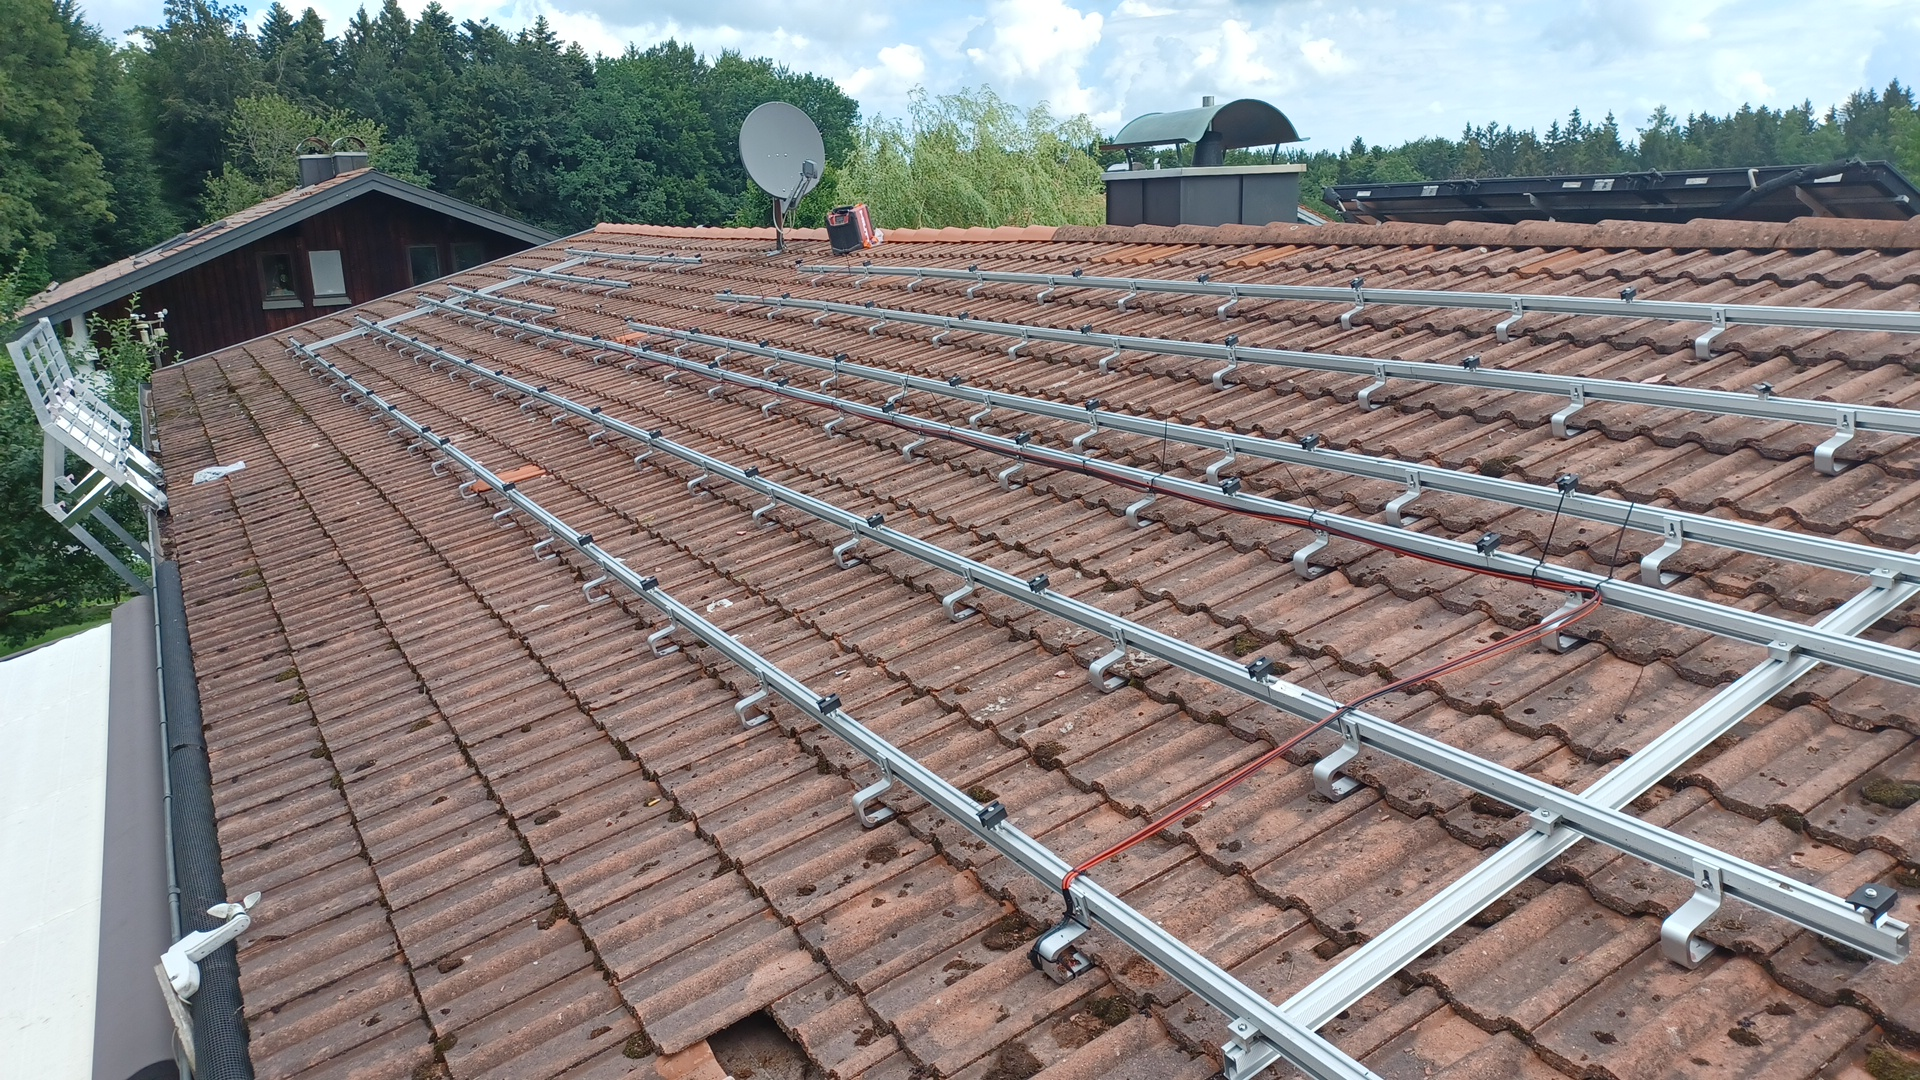hook: (1662, 857, 1724, 971), (1038, 884, 1092, 985), (1313, 716, 1360, 800), (852, 752, 897, 829), (1542, 576, 1584, 653), (1640, 516, 1683, 587), (1815, 409, 1857, 475), (1089, 625, 1127, 694), (1294, 517, 1329, 580), (735, 669, 770, 731), (1386, 469, 1422, 527), (942, 564, 975, 622), (1551, 382, 1585, 438), (647, 607, 680, 659), (1126, 476, 1156, 530), (1696, 309, 1726, 360), (1207, 436, 1236, 487), (1495, 297, 1523, 345), (1358, 363, 1386, 411), (582, 558, 609, 604), (833, 520, 858, 570), (1000, 446, 1025, 492), (1073, 409, 1098, 455), (1213, 348, 1237, 392), (752, 487, 777, 527), (1341, 287, 1365, 330), (902, 422, 926, 462), (533, 522, 556, 560), (687, 459, 709, 498), (969, 394, 993, 430), (493, 492, 516, 529), (1218, 286, 1240, 323), (1098, 338, 1120, 375), (1007, 328, 1029, 361), (636, 436, 654, 473), (762, 386, 782, 418), (1118, 281, 1138, 313), (820, 363, 839, 396), (459, 465, 477, 498), (588, 418, 607, 448), (932, 319, 951, 349), (887, 377, 909, 404), (1036, 277, 1056, 305), (764, 351, 782, 380), (869, 311, 887, 340), (431, 446, 448, 476), (551, 401, 568, 430), (407, 430, 425, 458), (967, 273, 984, 301), (708, 372, 724, 400), (665, 360, 680, 386), (520, 389, 535, 414), (907, 269, 923, 294), (715, 344, 732, 367), (814, 305, 829, 328), (593, 342, 608, 367), (492, 378, 506, 404), (727, 295, 742, 318), (855, 266, 870, 289), (674, 334, 688, 357), (767, 301, 783, 322), (388, 418, 402, 440), (626, 352, 641, 375), (563, 336, 578, 357), (811, 266, 825, 287), (469, 369, 483, 392), (369, 405, 384, 425), (355, 393, 368, 414), (448, 361, 462, 382), (342, 385, 356, 404), (430, 352, 443, 372), (414, 345, 426, 367), (328, 375, 342, 393), (537, 331, 549, 349), (531, 307, 543, 324), (495, 320, 506, 338), (514, 324, 526, 342), (512, 305, 526, 318), (299, 353, 311, 369), (309, 360, 320, 376), (582, 280, 593, 295), (400, 340, 410, 357), (458, 311, 469, 326), (475, 316, 487, 331), (524, 272, 535, 286), (373, 330, 384, 345), (385, 335, 396, 351), (625, 256, 636, 272), (319, 368, 330, 382), (476, 297, 487, 311), (560, 277, 571, 291), (607, 282, 617, 297), (649, 258, 659, 273), (676, 258, 686, 274), (291, 349, 303, 361), (429, 305, 440, 316), (284, 345, 297, 356), (493, 301, 504, 314), (604, 255, 615, 268), (542, 274, 553, 287), (442, 309, 454, 319), (584, 253, 593, 266), (447, 289, 458, 299), (351, 320, 363, 330), (363, 326, 371, 339), (415, 299, 425, 310), (460, 294, 469, 305), (564, 251, 574, 261), (506, 270, 516, 280)
